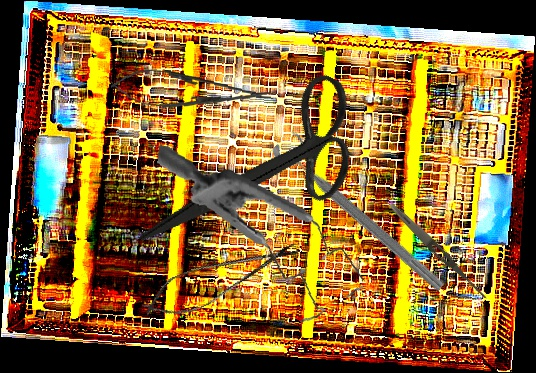Dressing Forceps: (386, 200, 492, 303)
Fixation Ring: (268, 126, 458, 297)
Iris Scissors: (136, 31, 385, 311)
Micro Scissor: (135, 228, 305, 329)
Needle Holder: (109, 66, 275, 116)
Speculum: (140, 145, 377, 329)
